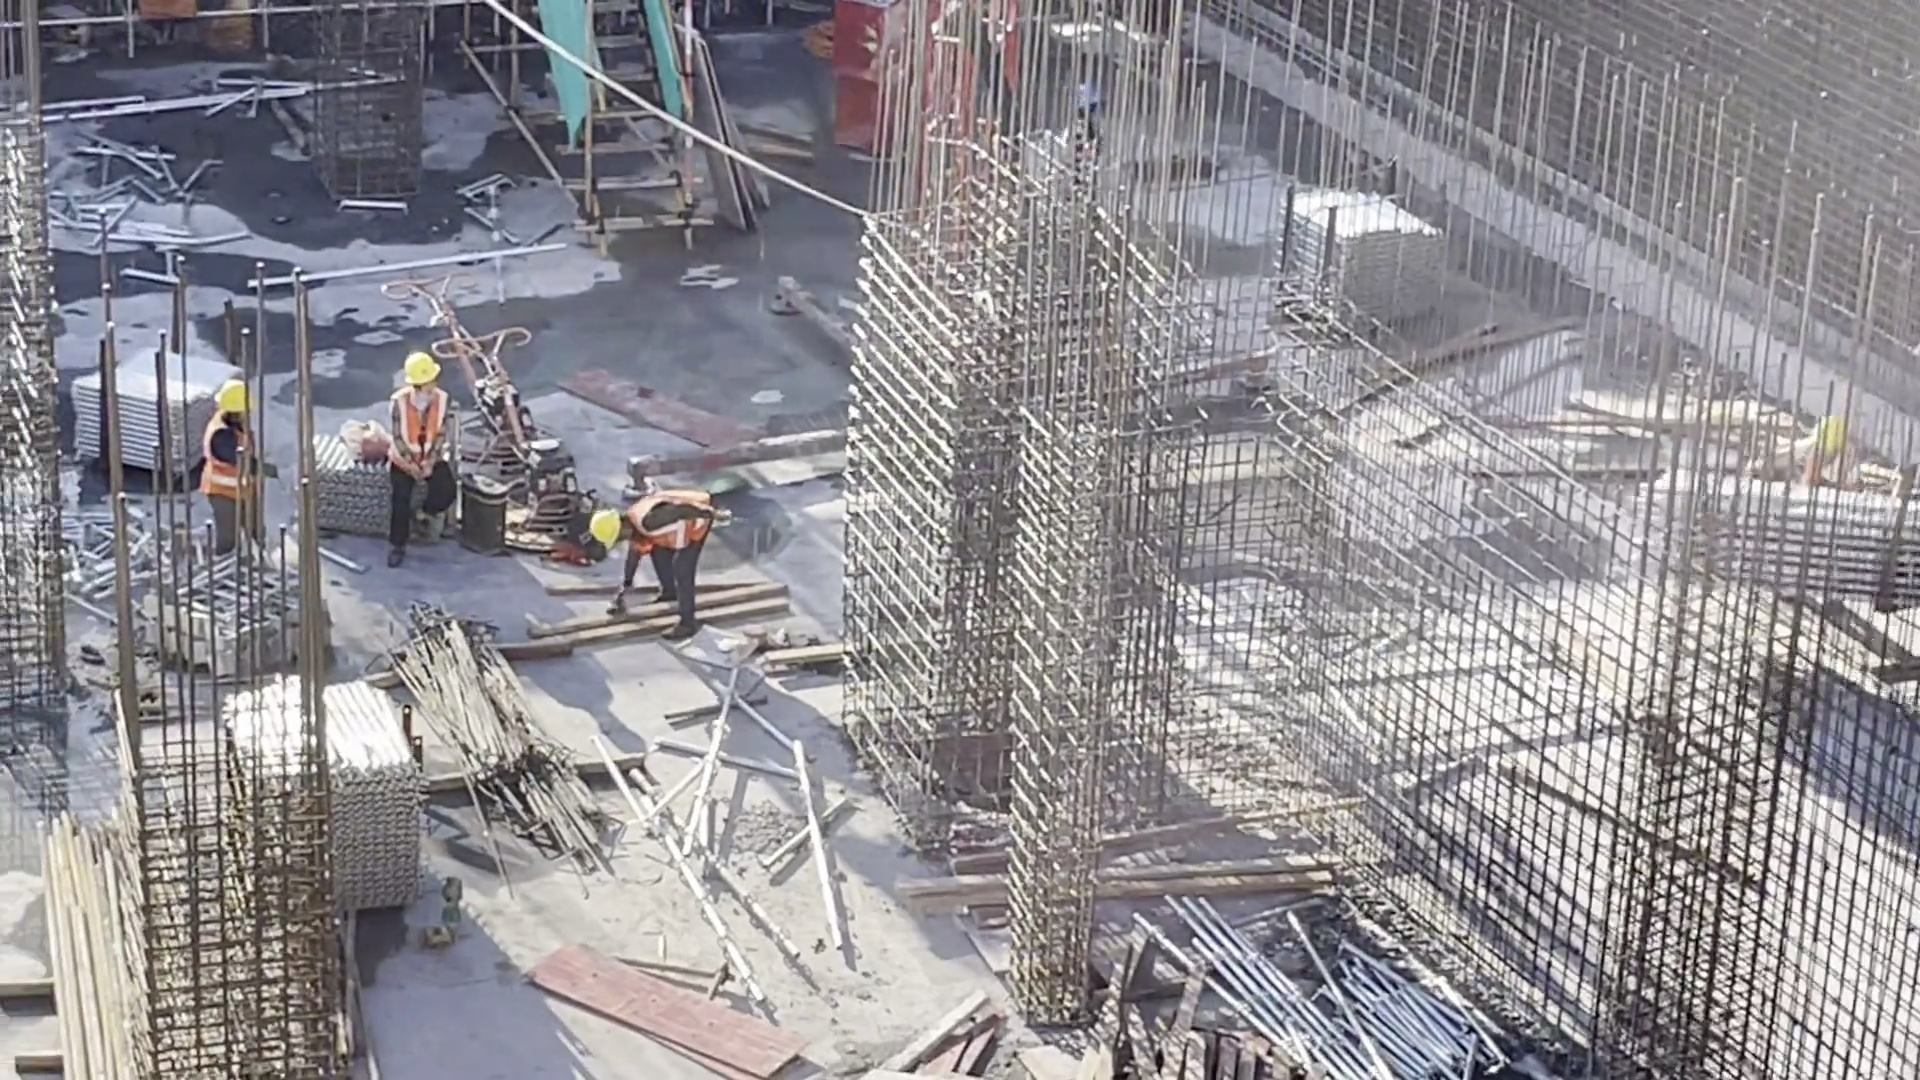helmet: (397, 345, 452, 387), (1814, 412, 1848, 467), (588, 508, 625, 557), (208, 376, 254, 412)
person: (578, 490, 712, 632), (386, 345, 473, 554), (195, 387, 295, 548), (1789, 394, 1874, 537)
scaffold: (47, 494, 333, 670), (225, 684, 435, 907), (1620, 476, 1920, 609), (1273, 183, 1473, 359), (76, 332, 247, 495), (291, 427, 468, 542)
vest: (193, 413, 263, 508), (628, 488, 715, 562), (391, 389, 463, 468)
